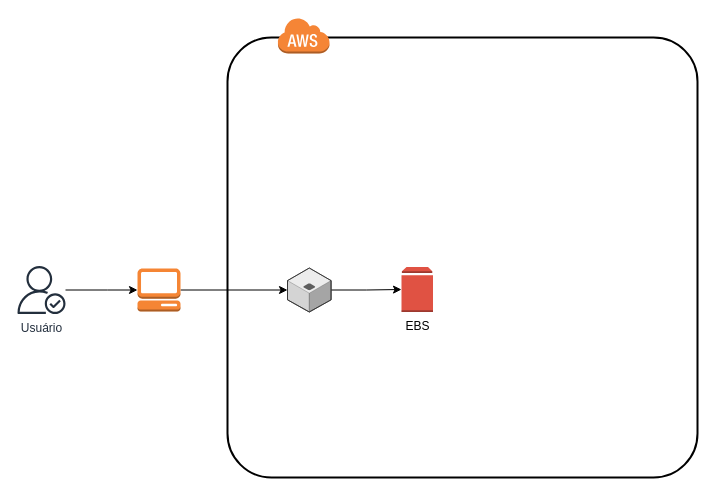
The diagram is 715 pixels wide and 496 high, and some of its shapes have lost their labels. Each missing label, with the centre of its shape:
"EC2" belongs at [308,289].
"Estação de Trabalho" belongs at [158,290].
